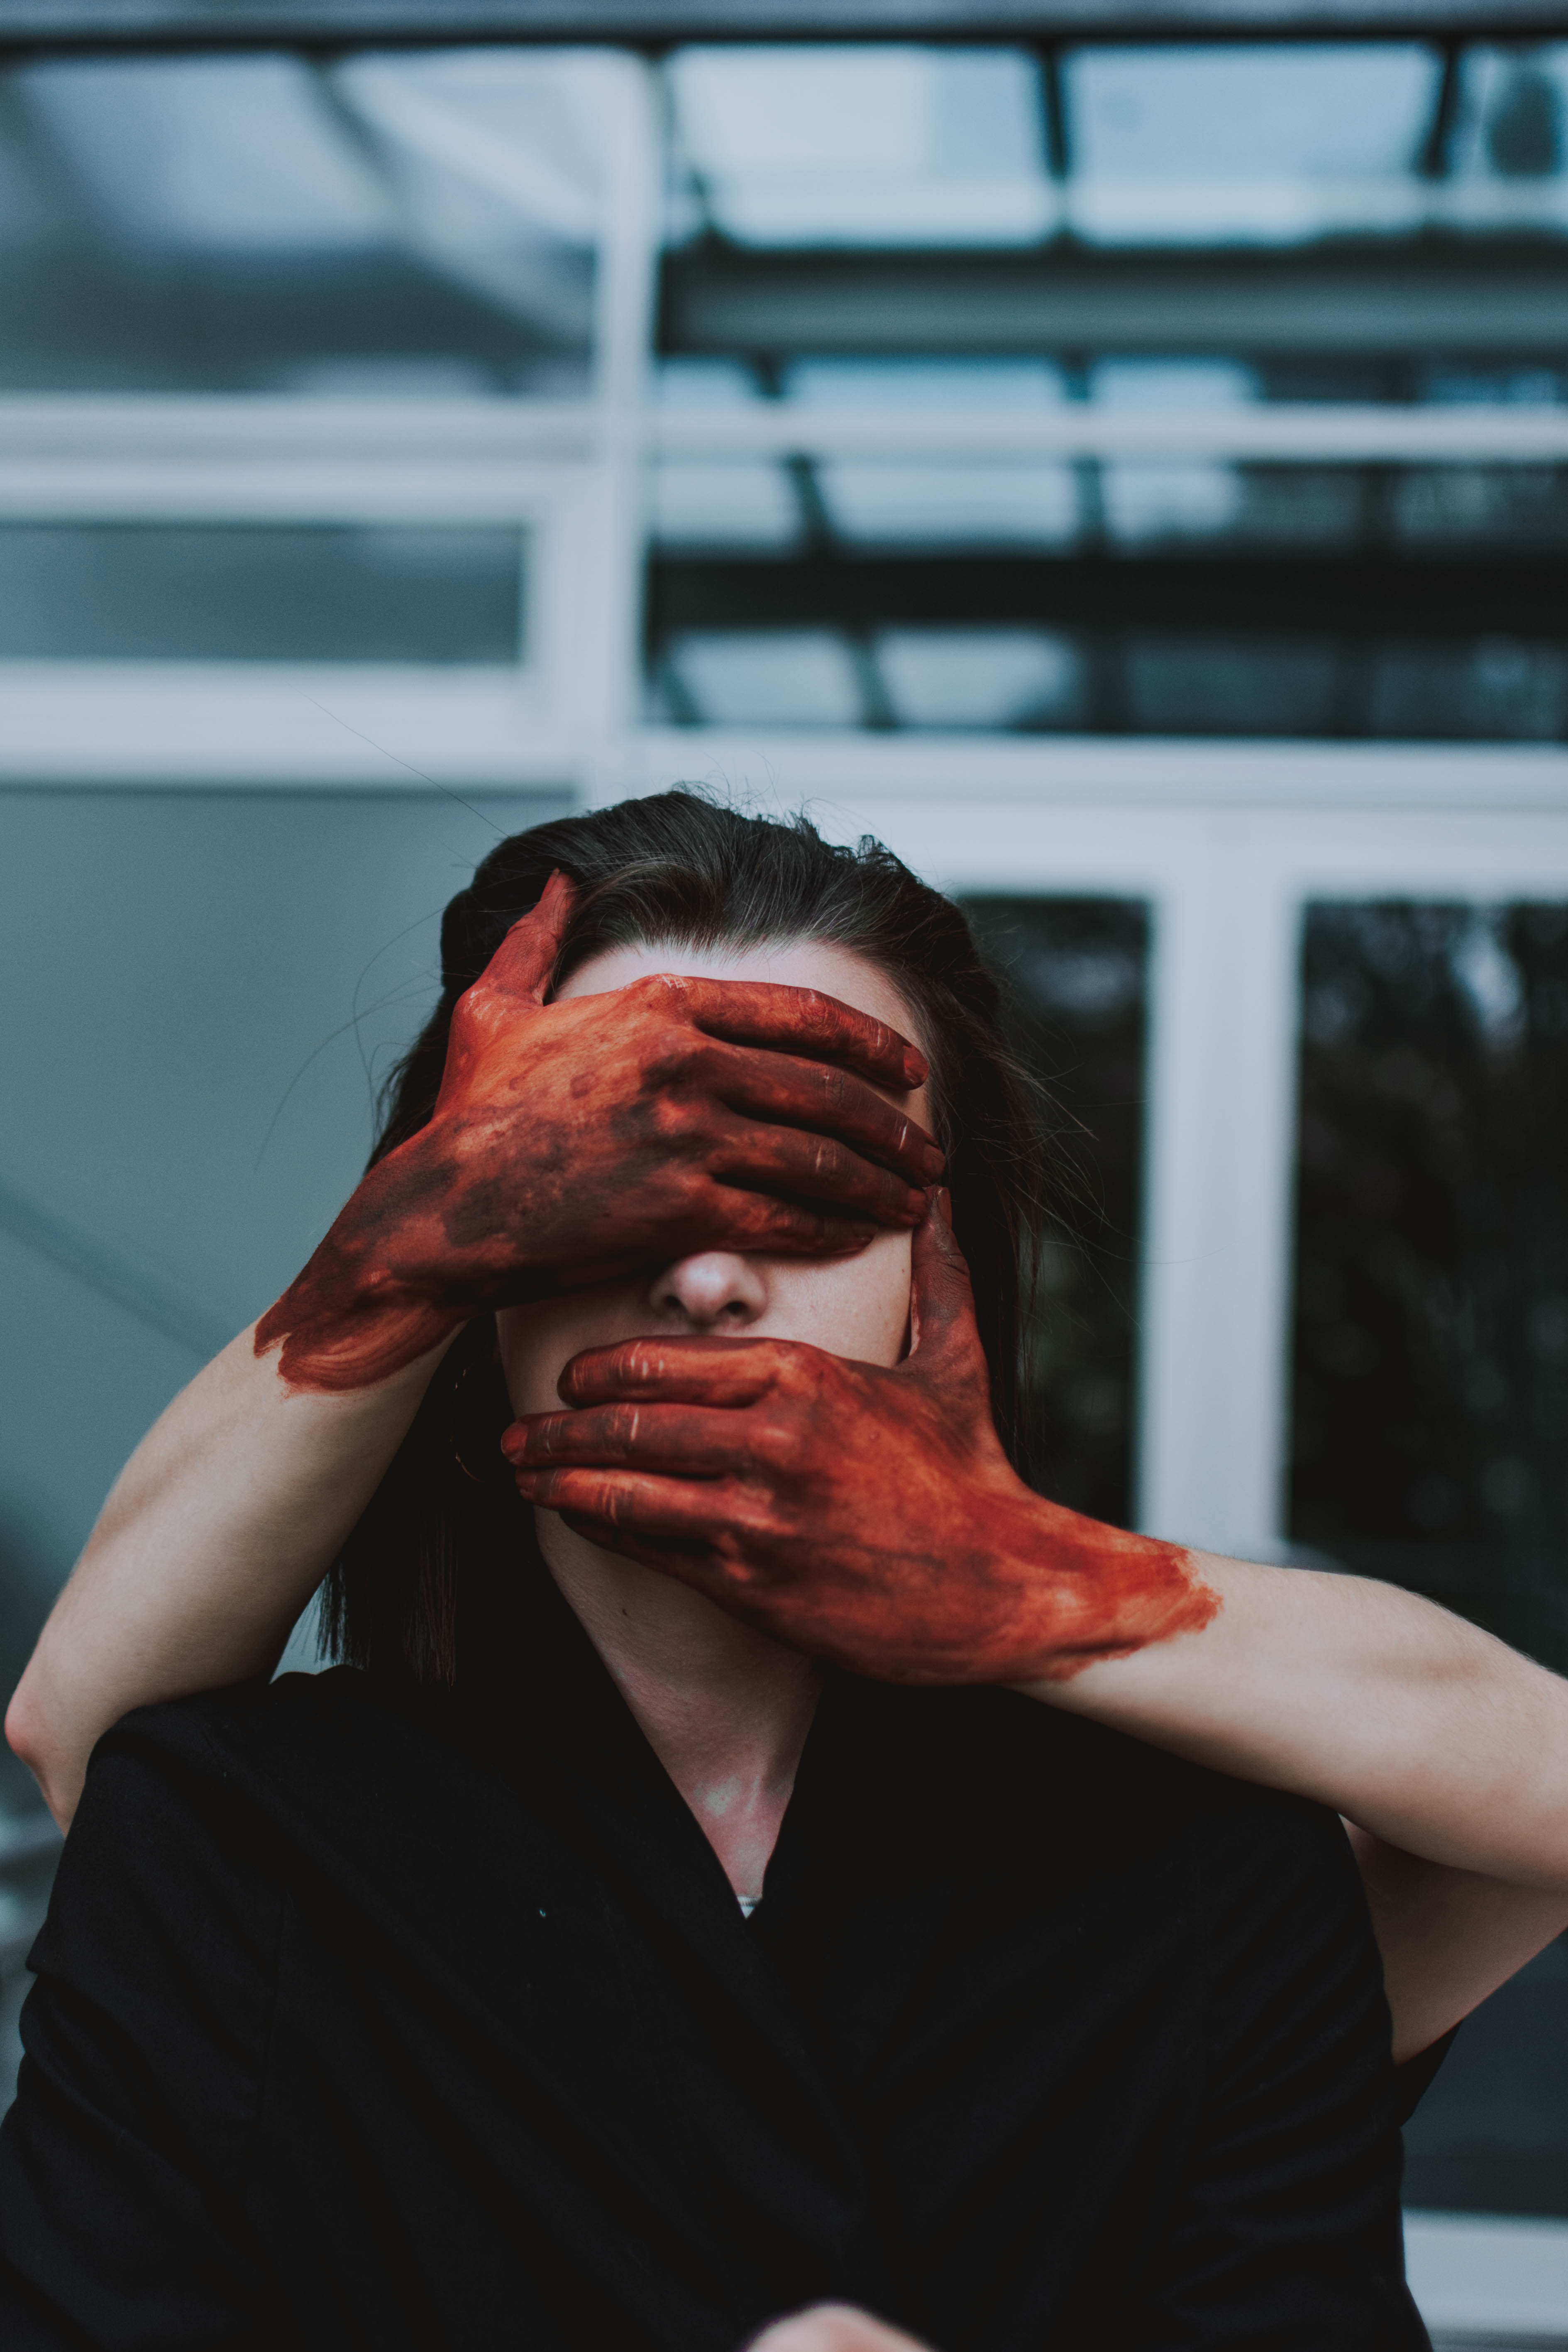blood: (521, 1185, 1249, 1732), (243, 861, 952, 1358)
